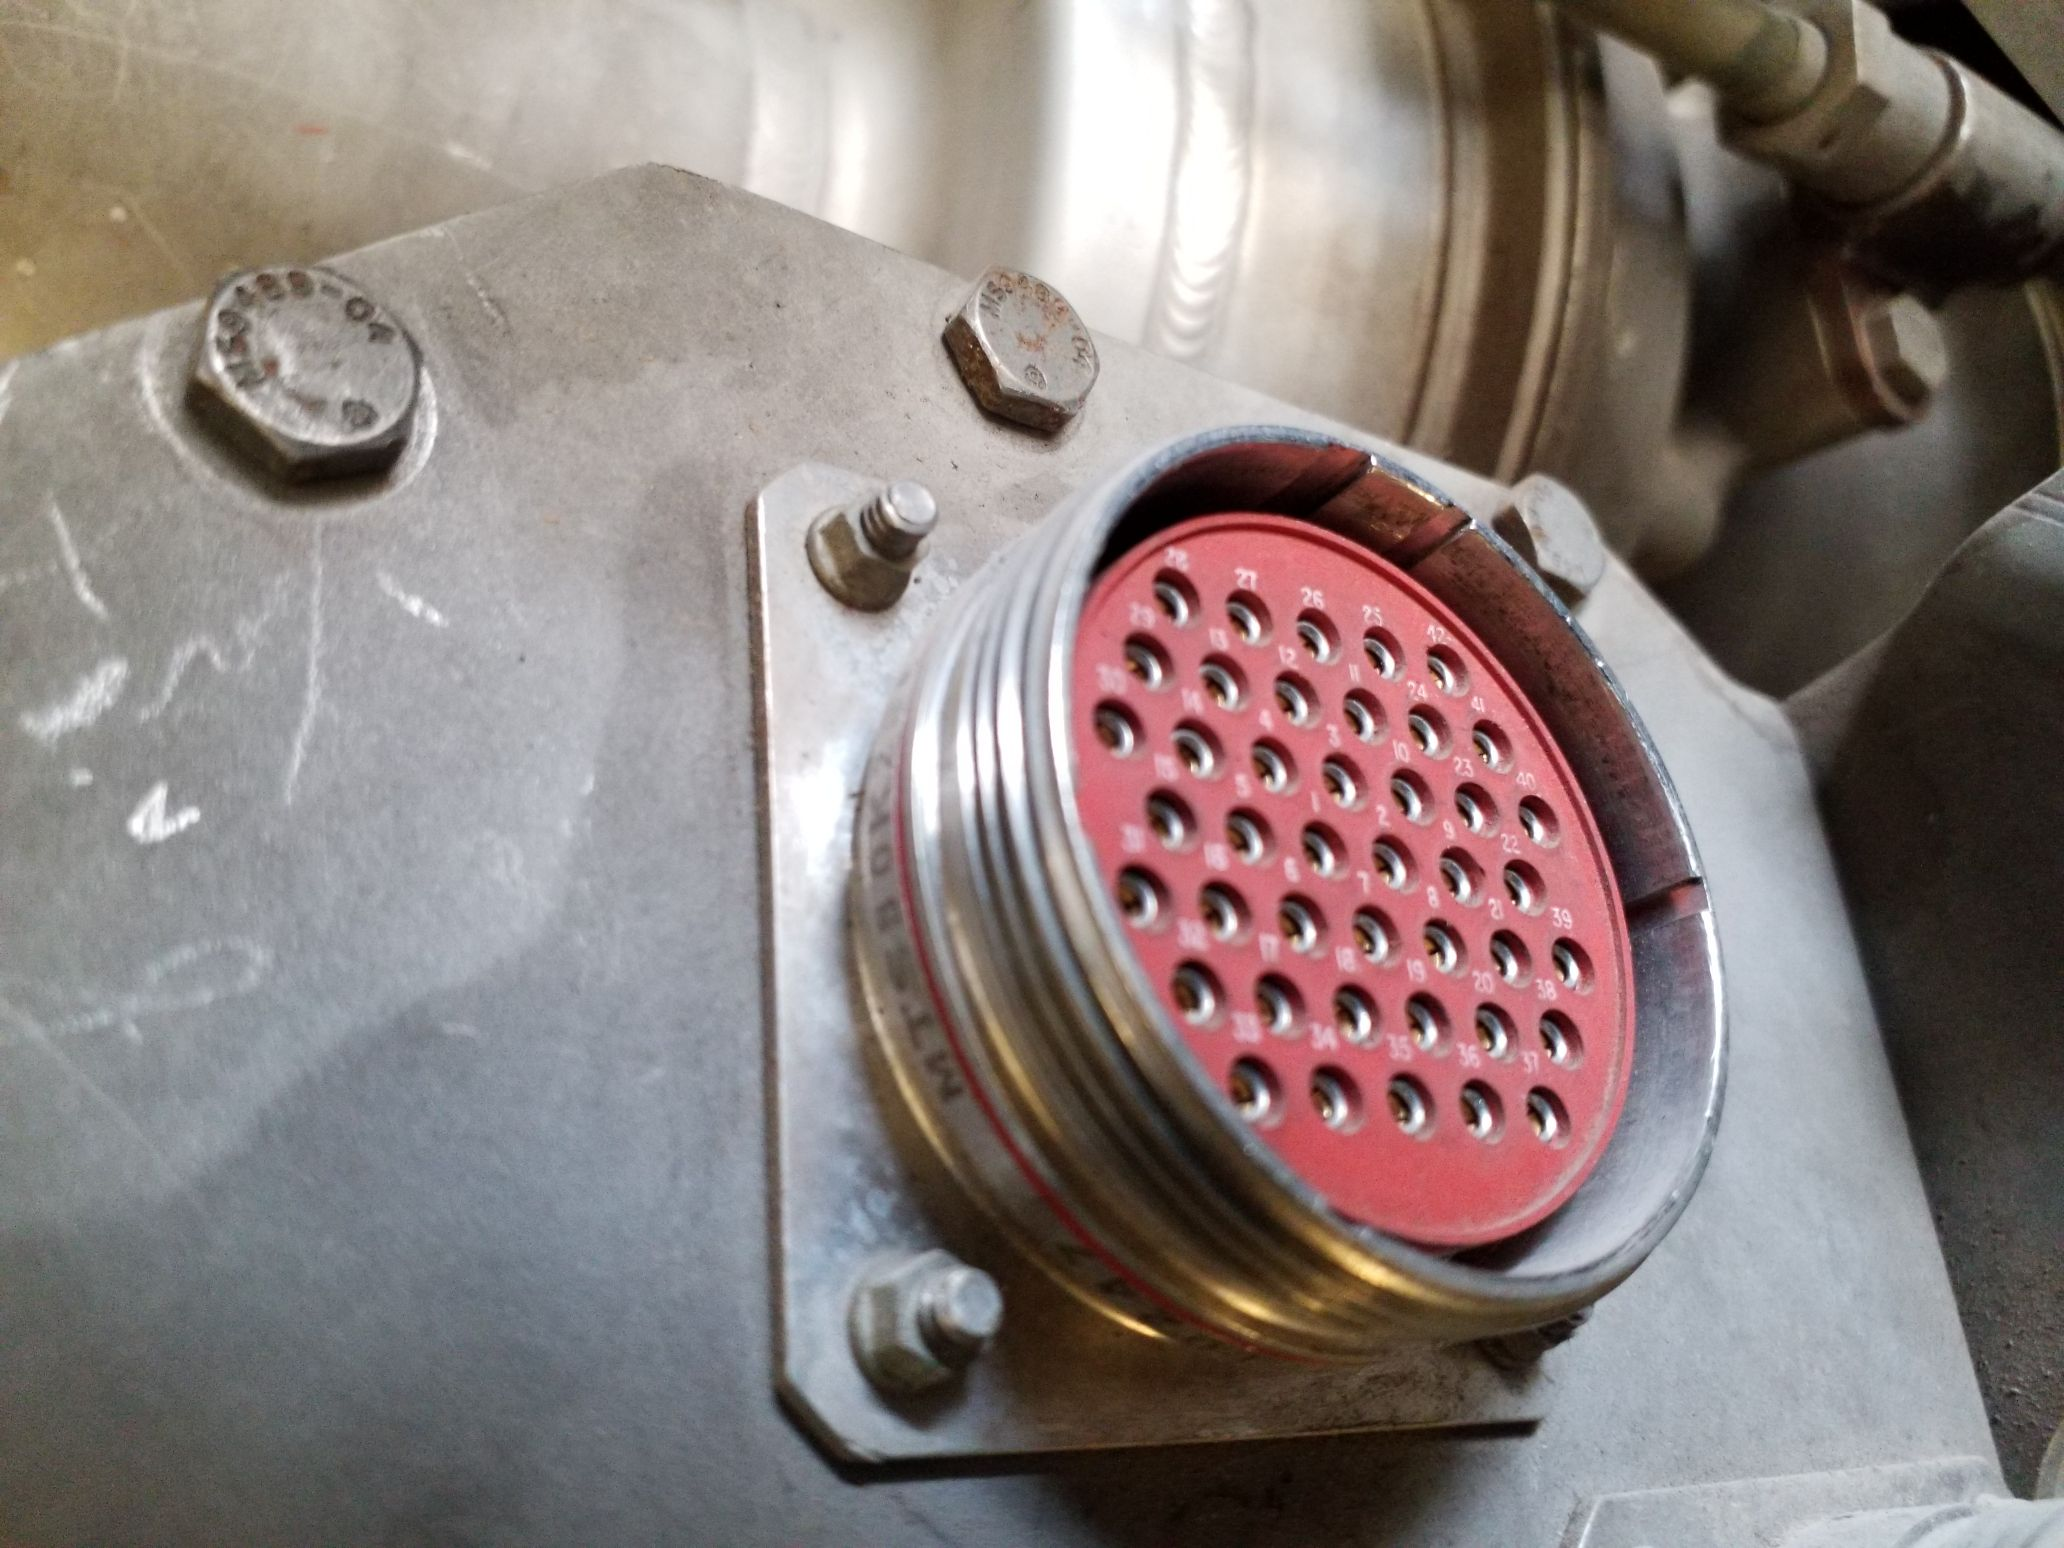inletnumbers: (806, 403, 1762, 1364)
